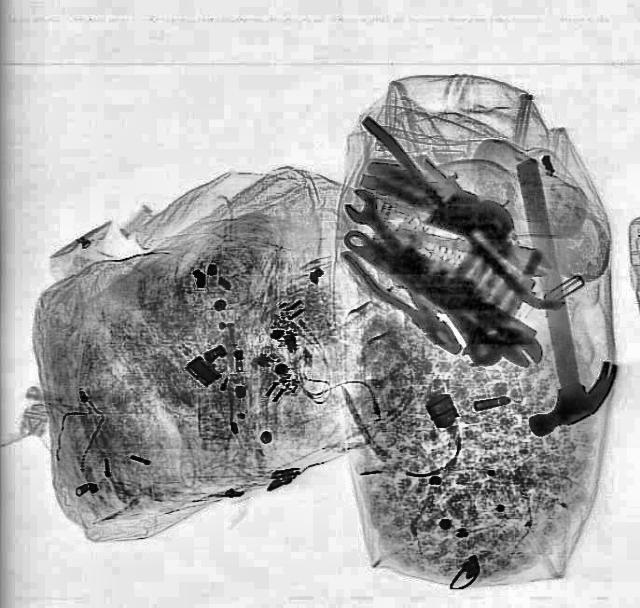Pliers: (341, 225, 482, 365)
Wrench: (332, 220, 552, 374), (335, 183, 469, 305), (474, 220, 556, 282)
